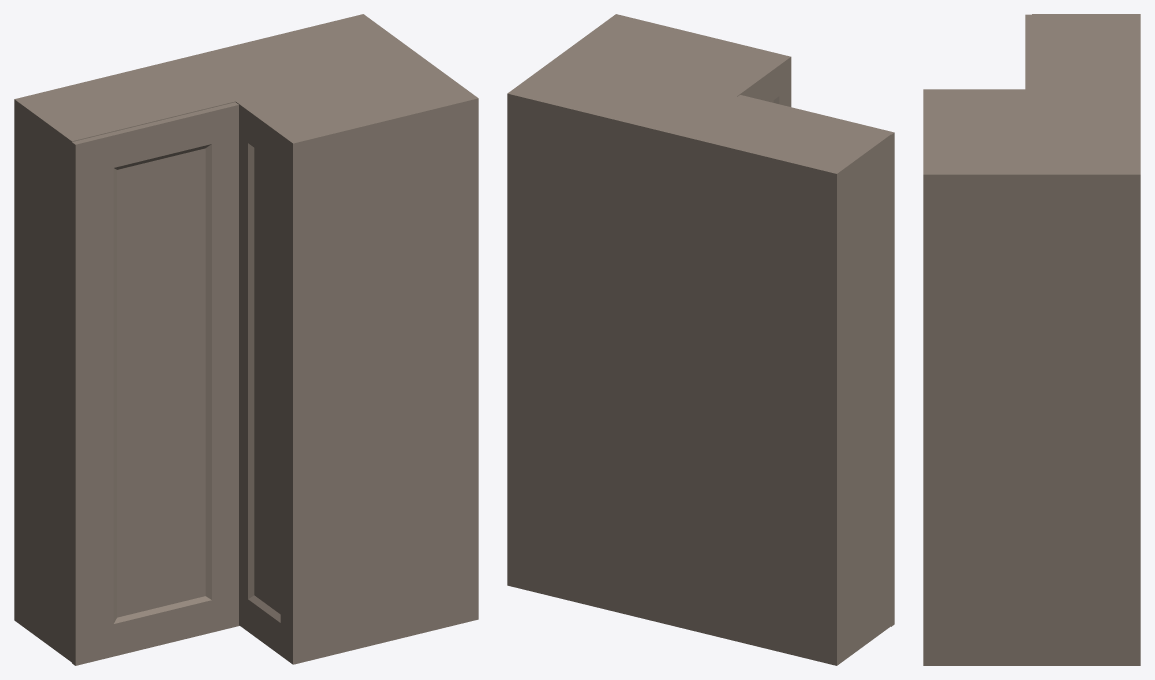
File: Wall-Cabinet-Easy-Reach-12-Deep_std_001_W21in.glb
3 renders of one model, left to right at view 1: azimuth 30°, elevation 25°; view 2: azimuth 150°, elevation 25°; view 3: azimuth 270°, elevation 25°, orthographic. The views are drawn at different scales.
Visible parts, largest first — view 1: Wall-Cabinet-Easy-Reach-12-Deep.std.001_W21in; view 2: Wall-Cabinet-Easy-Reach-12-Deep.std.001_W21in; view 3: Wall-Cabinet-Easy-Reach-12-Deep.std.001_W21in.
Boxes of the visible parts, left/top/right/bottom form: Wall-Cabinet-Easy-Reach-12-Deep.std.001_W21in: left=14, top=14, right=478, bottom=665; Wall-Cabinet-Easy-Reach-12-Deep.std.001_W21in: left=507, top=14, right=894, bottom=665; Wall-Cabinet-Easy-Reach-12-Deep.std.001_W21in: left=923, top=14, right=1140, bottom=665.
Size of the model in its own units: 0.5334 by 0.762 by 0.3048.
